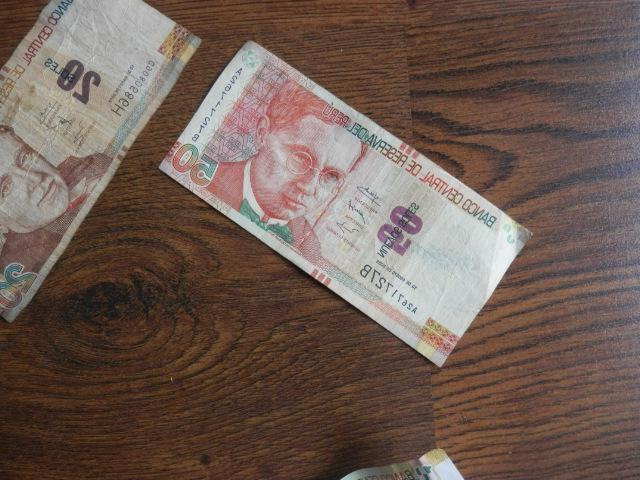B20: (1, 1, 183, 302)
B50: (160, 40, 535, 369)
